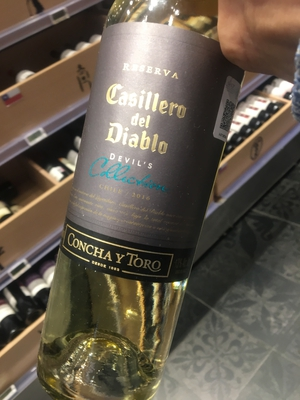casillero del diablo devils collection verde: (53, 6, 255, 394)
